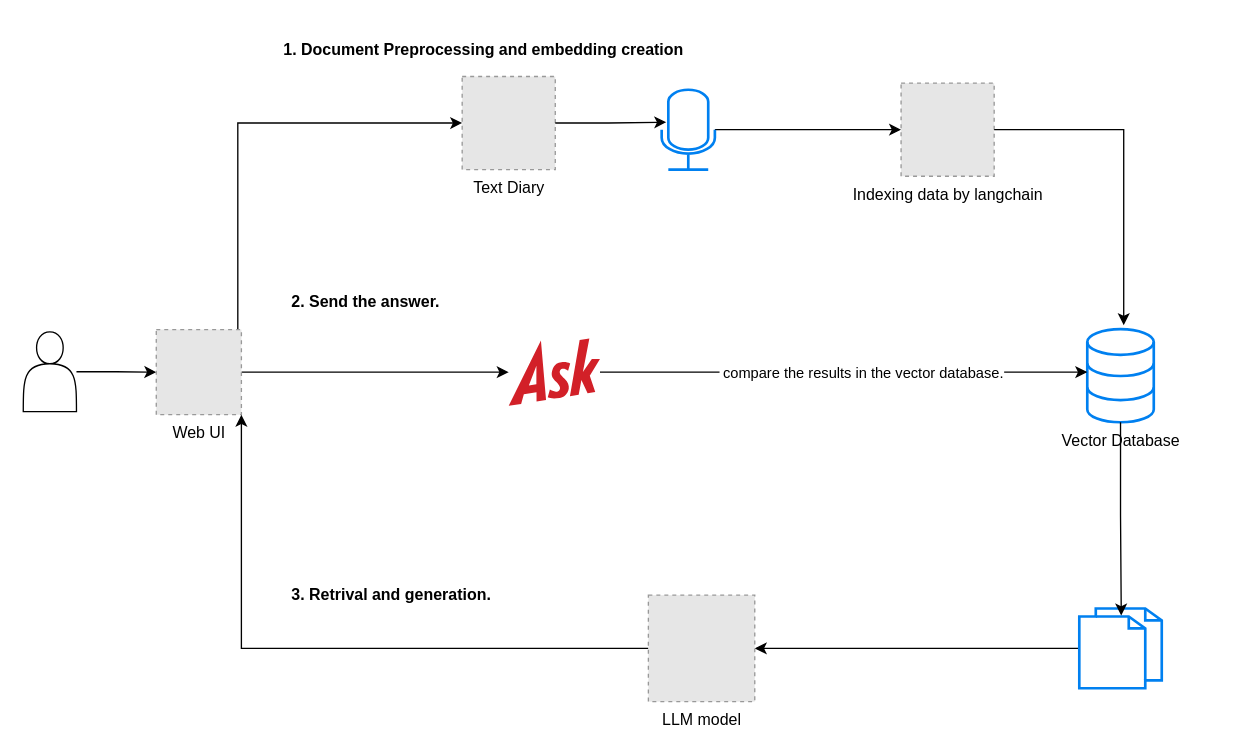
Some shapes in this 1236 by 751 pixel diagram are drawn without their labels. Grey dashed boxes stand in for pictures. The shapes that lost their labels are listed below. From the top down, each one's box as (x1, y1, x2, y2) in pixels, then its label:
(660, 88, 716, 170): Audio Diary
(22, 331, 76, 412): User
(1077, 606, 1162, 689): Query + relevant Passage
